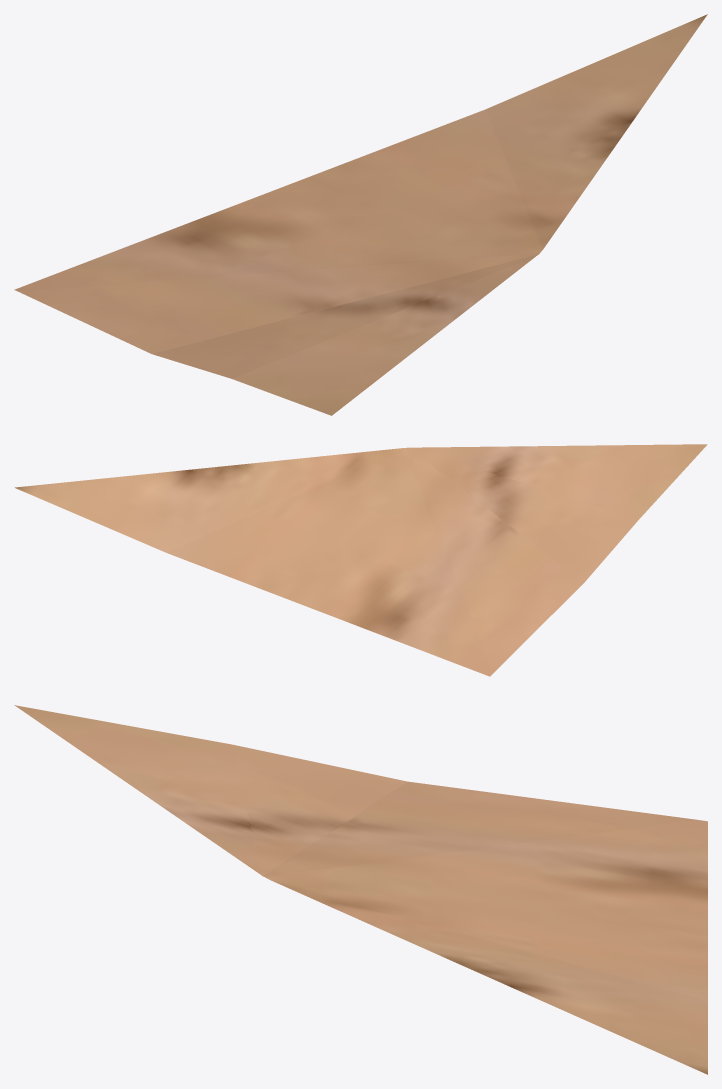
3 views of the same model, one above another, from view 1: azimuth 30°, elevation 25°; view 2: azimuth 150°, elevation 25°; view 3: azimuth 270°, elevation 25° (orthographic). The views are drawn at different scales.
Size of the model in its own units: 0.1364 by 0.02 by 0.1082.
1 material, 1 textured.
